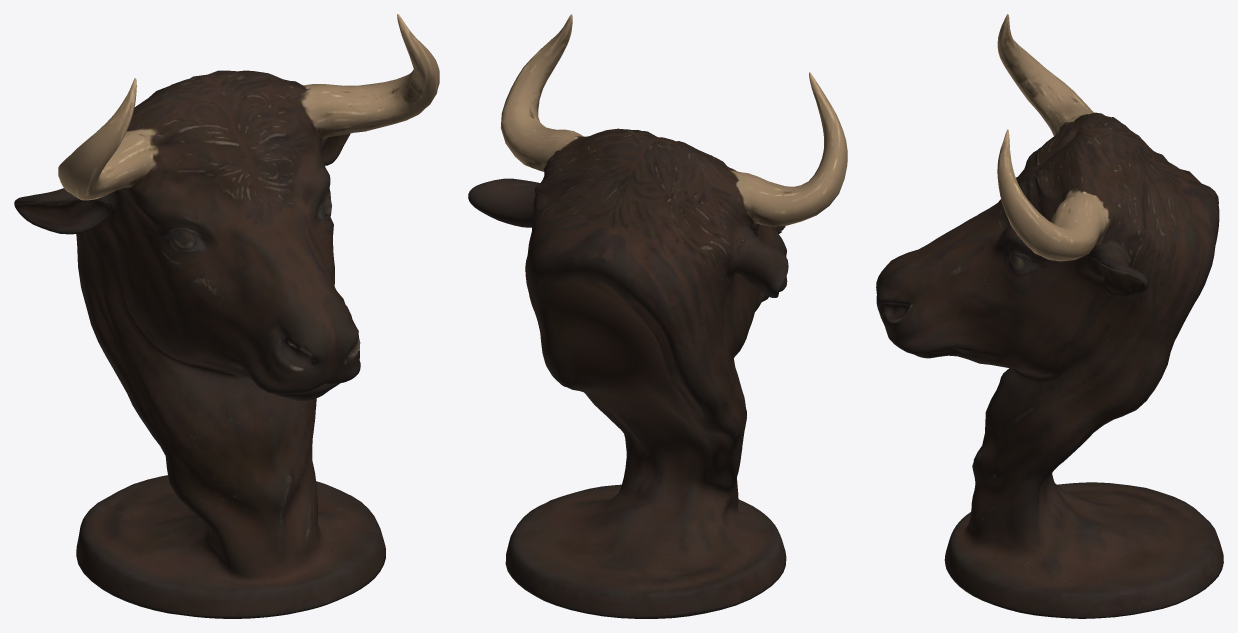
Rendered from bull_head.glb.
3 views of the same model, side by side, from view 1: azimuth 30°, elevation 25°; view 2: azimuth 150°, elevation 25°; view 3: azimuth 270°, elevation 25° (orthographic). The views are drawn at different scales.
Visible parts, largest first — view 1: bull_head; view 2: bull_head; view 3: bull_head.
Part boxes in pixels (<box>): bull_head: <box>14,14,439,618</box>; bull_head: <box>468,14,847,618</box>; bull_head: <box>876,14,1223,618</box>.
Bounding box in the file's own units: 0.3064 × 0.433 × 0.2807.
Materials: 1 (1 with a texture image).
